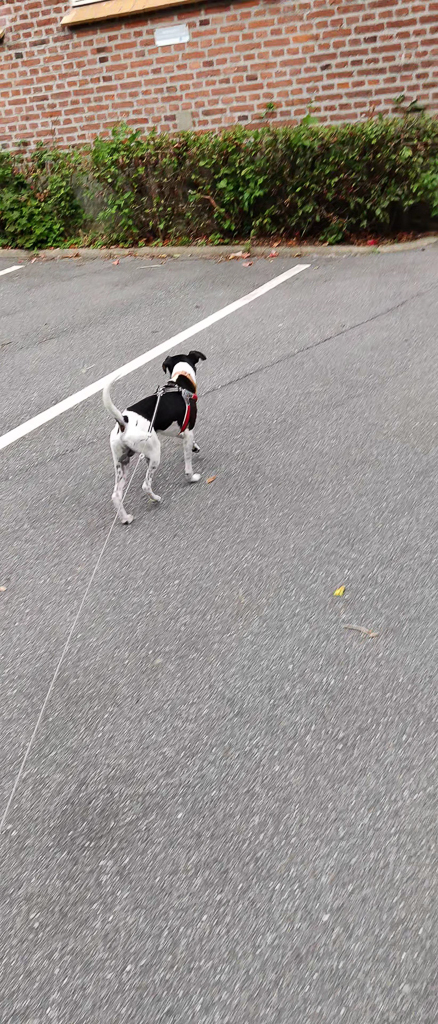Dog: (85, 348, 220, 529)
